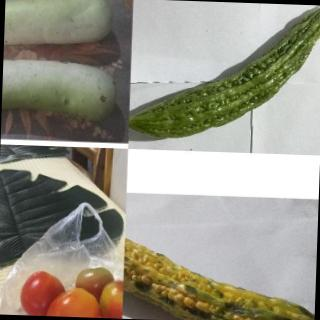Tomat: (14, 264, 124, 319)
